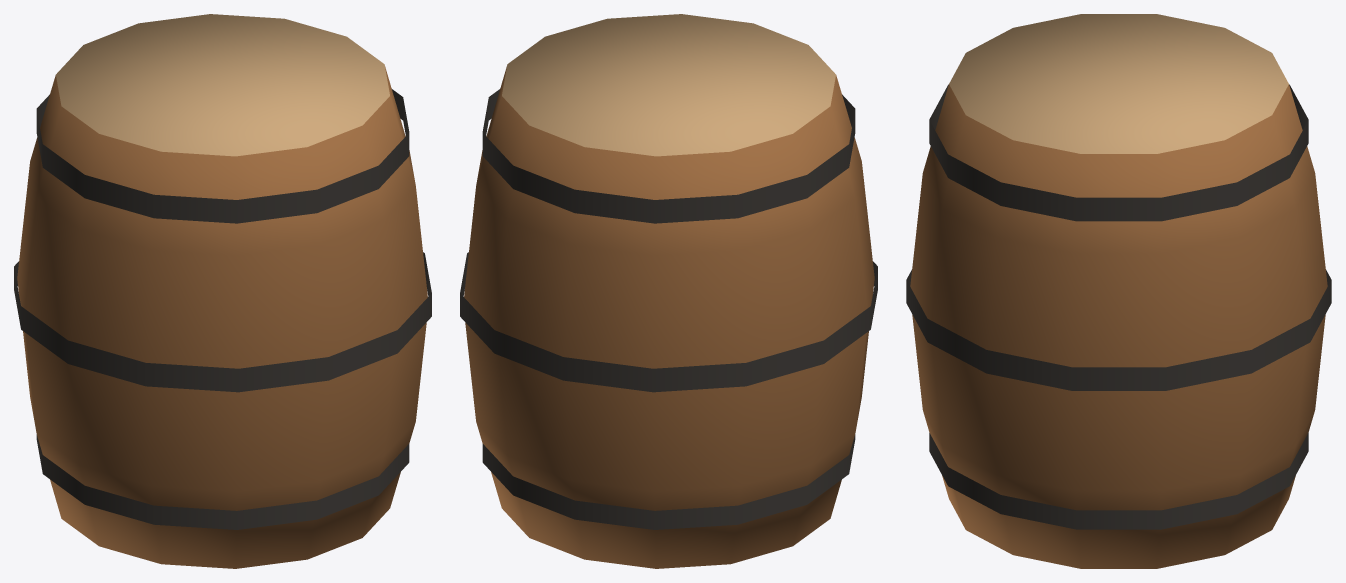
File: Prop_Barrel.fbx
The picture shows the model from 3 angles, left to right: view 1: azimuth 30°, elevation 25°; view 2: azimuth 150°, elevation 25°; view 3: azimuth 270°, elevation 25°; orthographic projection.
Parts seen in each view (by area): view 1: Prop_Barrel.001; view 2: Prop_Barrel.001; view 3: Prop_Barrel.001.
Part boxes in pixels (bbox=[...]): Prop_Barrel.001: bbox=[14, 14, 431, 568]; Prop_Barrel.001: bbox=[460, 14, 877, 568]; Prop_Barrel.001: bbox=[906, 14, 1331, 568].
Size of the model in its own units: 0.6337 by 0.7 by 0.65.
